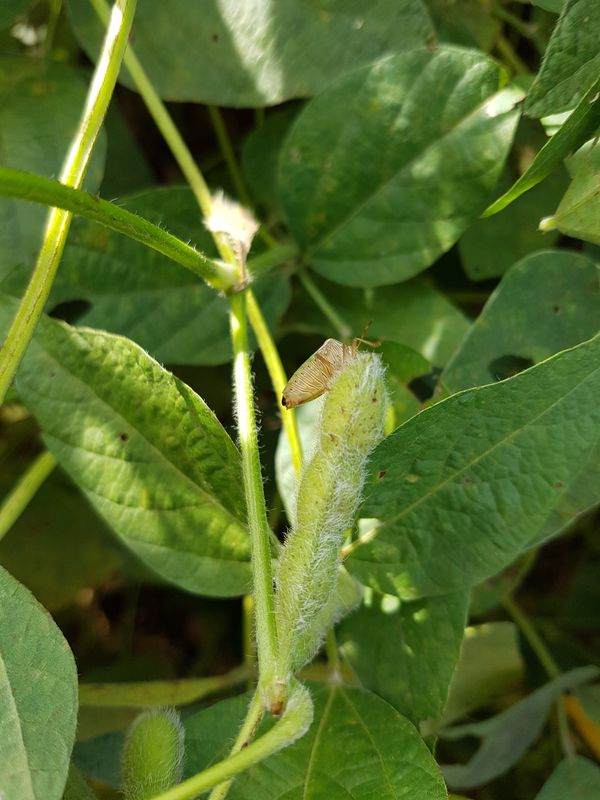Edessa_meditabunda: (269, 317, 390, 414)
